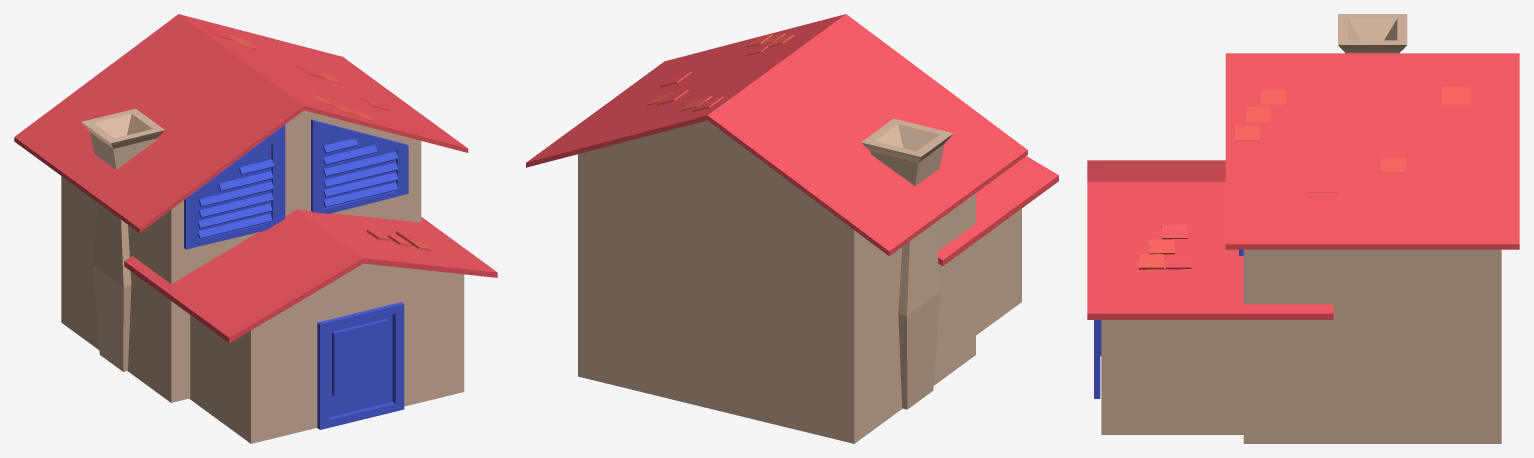
File: house_type_5.obj
3 renders of one model, left to right at view 1: azimuth 30°, elevation 25°; view 2: azimuth 150°, elevation 25°; view 3: azimuth 270°, elevation 25°, orthographic. The views are drawn at different scales.
Visible parts, largest first — view 1: house_type_5; view 2: house_type_5; view 3: house_type_5.
Boxes of the visible parts, x1=… form: house_type_5: x1=14, y1=14, x2=497, y2=443; house_type_5: x1=526, y1=14, x2=1058, y2=443; house_type_5: x1=1087, y1=14, x2=1519, y2=443.
Size of the model in its own units: 4.58 by 3.64 by 4.45.
